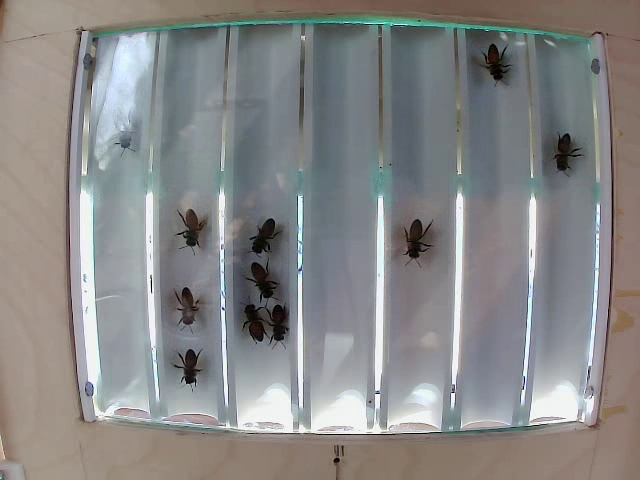bee: (383, 212, 446, 277), (527, 138, 575, 189), (171, 208, 208, 256), (234, 293, 272, 335), (246, 221, 283, 258), (165, 347, 203, 383), (162, 288, 198, 320), (486, 49, 517, 86), (246, 267, 279, 300), (264, 308, 288, 346)
